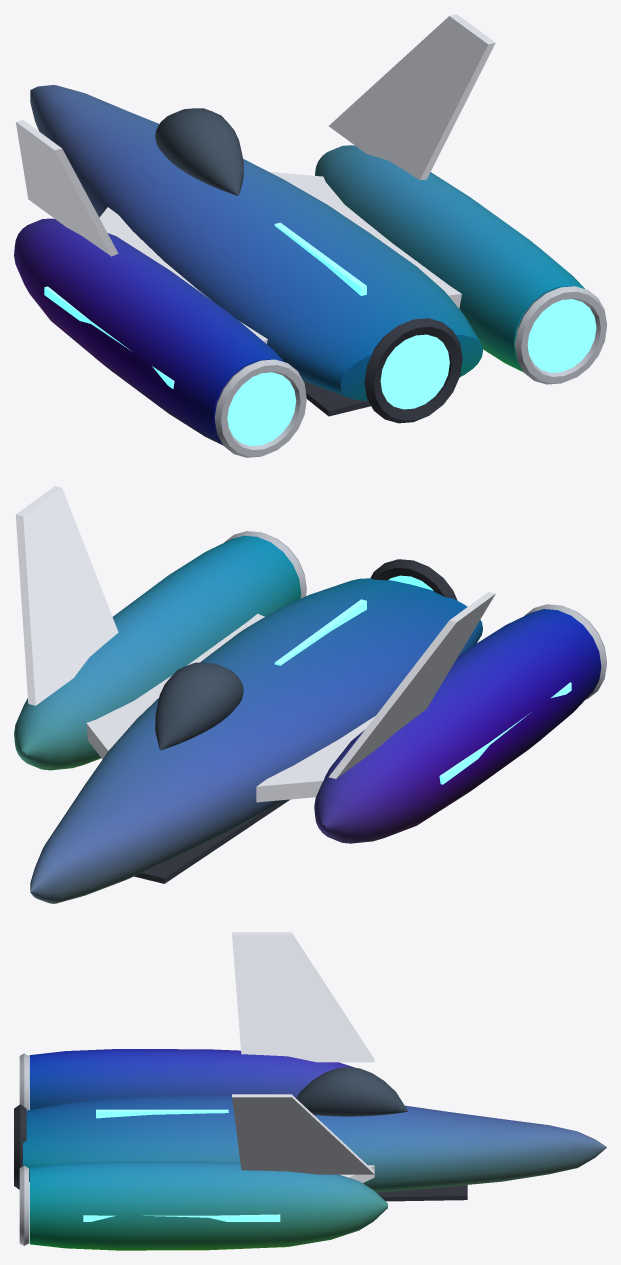
File: wisp.glb
3 views of the same model, one above another, from view 1: azimuth 30°, elevation 25°; view 2: azimuth 150°, elevation 25°; view 3: azimuth 270°, elevation 25° (orthographic). The views are drawn at different scales.
Visible parts, largest first — view 1: wisp_LOD0; view 2: wisp_LOD0; view 3: wisp_LOD0.
Part boxes in pixels (x1=…): wisp_LOD0: x1=14, y1=14, x2=606, y2=457; wisp_LOD0: x1=14, y1=486, x2=606, y2=903; wisp_LOD0: x1=14, y1=932, x2=606, y2=1250.
Size of what is drawn, in the model's own units: 2.94 by 1.46 by 4.47.
